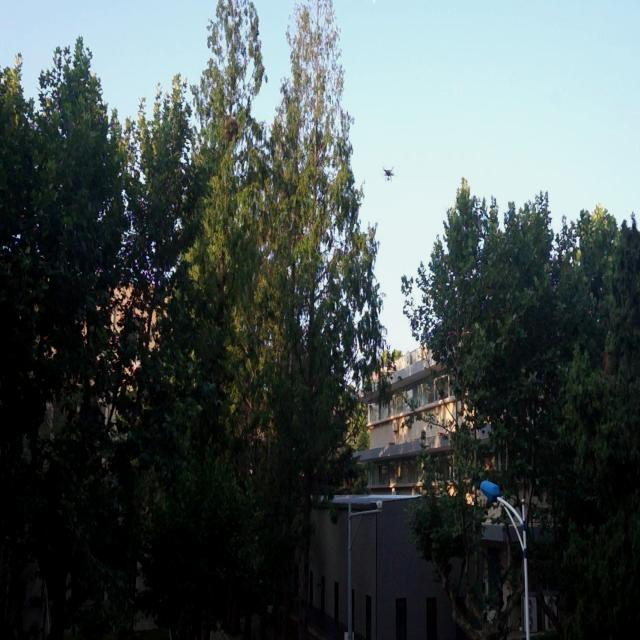drone: (378, 159, 400, 189)
